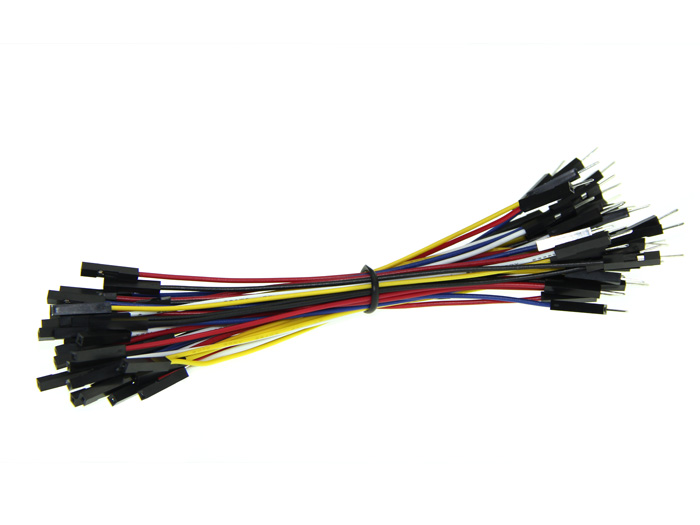Nonrec_Tangler: (1, 160, 691, 388)
